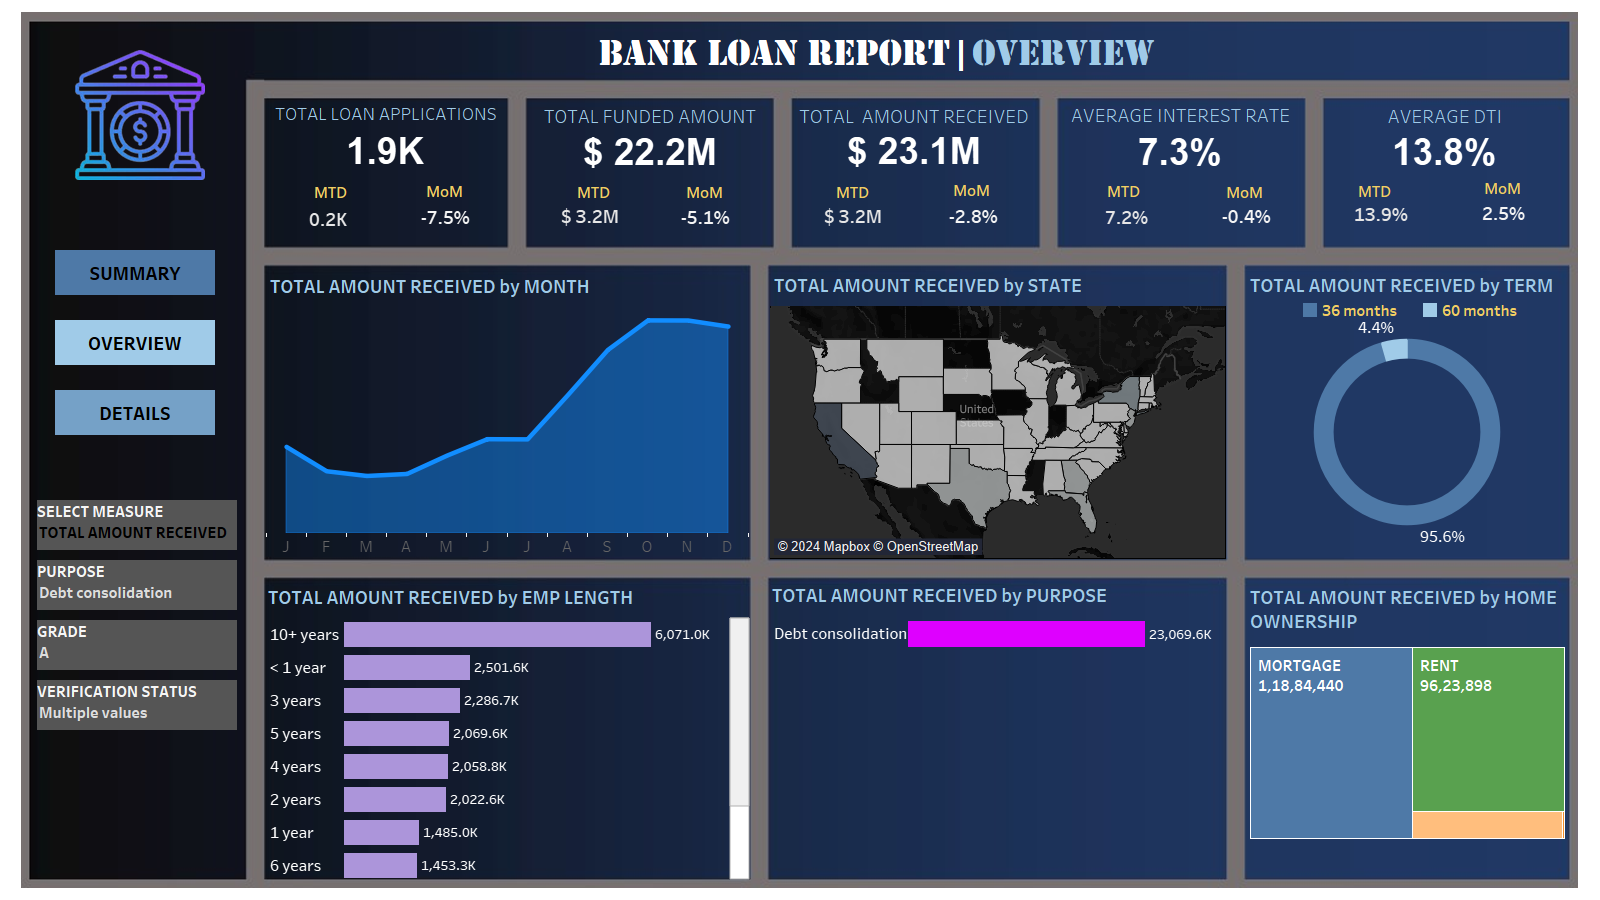

The page's visual inventory and layout, read from the dashboard file:
{"tool":"tableau","page":{"name":"OVERVIEW","canvas":[1600,900],"ordinal":1},"visuals":[{"type":"image","param":"C:/Users/Maanik/Downloads/Bank Loan Project-20240807T073315Z-001/Bank Loan Proje","box":[8,8,1584,884]},{"type":"text","box":[595,21,578,65]},{"type":"image","param":"C:/Users/Maanik/AppData/Local/Temp/TableauTemp/0zkw3at1ra2ahx14gca6o1qifzz1/Shee","box":[75,40,130,150]},{"type":"image","param":"C:/Users/Maanik/AppData/Local/Temp/TableauTemp/15ree561h9ufwv19vqi0z10ak1fa/Shee","box":[68,52,130,150]},{"type":"worksheet","title":"TOTAL LOAN APPLICATIONS","mark":"Automatic","box":[264,95,244,75]},{"type":"worksheet","title":"AVERAGE INTEREST RATE","mark":"Automatic","box":[1057,96,247,74]},{"type":"worksheet","title":"TOTAL FUNDED AMOUNT","mark":"Automatic","box":[528,97,244,72]},{"type":"worksheet","title":"TOTAL AMOUNT RECEIVED","mark":"Automatic","box":[792,97,244,71]},{"type":"worksheet","title":"AVERAGE DTI","mark":"Automatic","box":[1323,97,244,73]},{"type":"text","box":[1479,173,47,30]},{"type":"text","box":[948,175,47,30]},{"type":"text","box":[421,176,47,30]},{"type":"text","box":[1100,176,47,30]},{"type":"text","box":[1351,176,47,30]},{"type":"text","box":[307,177,47,30]},{"type":"text","box":[570,177,47,30]},{"type":"text","box":[681,177,47,30]},{"type":"text","box":[829,177,47,30]},{"type":"text","box":[1221,177,47,30]},{"type":"worksheet","title":"MTD AVERAGE INTEREST RATE","mark":"Automatic","box":[1079,180,97,74]},{"type":"worksheet","title":"MoM AVERAGE DTI","mark":"Automatic","box":[1458,181,93,64]},{"type":"worksheet","title":"MoM AVERAGE INTEREST RATE (2)","mark":"Automatic","box":[1188,182,118,68]},{"type":"worksheet","title":"MTD TOTAL AMOUNT RECEIVED","mark":"Automatic","box":[796,187,116,59]},{"type":"worksheet","title":"MoM TOTAL AMOUNT RECEIVED","mark":"Automatic","box":[933,187,82,59]},{"type":"worksheet","title":"MTD TOTAL FUNDED AMOUNT","mark":"Automatic","box":[550,190,81,52]},{"type":"worksheet","title":"MTD AVERAGE DTI","mark":"Automatic","box":[1331,193,100,43]},{"type":"worksheet","title":"MoM TOTAL FUNDED AMOUNT","mark":"Automatic","box":[656,195,100,44]},{"type":"worksheet","title":"MoM LOAN APPLICATIONS","mark":"Automatic","box":[400,200,91,35]},{"type":"worksheet","title":"MTD TOTAL LOAN APPLICATIONS","mark":"Automatic","box":[302,204,53,31]},{"type":"dashboard-object","box":[55,250,160,45]},{"type":"worksheet","title":"STATE","mark":"Multipolygon","box":[770,266,455,292]},{"type":"worksheet","title":"TERM","mark":"Pie","rows":["Calculation_1231734546634989574","Calculation_1231734546634989574"],"box":[1246,266,322,292]},{"type":"worksheet","title":"MONTH","mark":"Area","rows":["Calculation_1231734546594680832","Calculation_1231734546594680832"],"cols":["issue_date"],"box":[266,267,482,291]},{"type":"legend","title":"TERM","param":"[federated.1c1o7jy136sukd108z0h11665mzk].[none:term:nk]","box":[1300,300,251,28]},{"type":"dashboard-object","box":[55,320,160,45]},{"type":"dashboard-object","box":[55,390,160,45]},{"type":"parameter","param":"[Parameters].[Parameter 1]","box":[37,500,200,50]},{"type":"filter","title":"AVERAGE DTI","param":"[federated.1c1o7jy136sukd108z0h11665mzk].[none:purpose:nk]","box":[37,560,200,50]},{"type":"worksheet","title":"PURPOSE","mark":"Automatic","rows":["purpose"],"cols":["Calculation_1231734546594680832"],"box":[768,576,460,302]},{"type":"worksheet","title":"EMP LENGTH","mark":"Automatic","rows":["emp_length"],"cols":["Calculation_1231734546594680832"],"box":[264,578,486,301]},{"type":"worksheet","title":"HOME OWNERSHIP","mark":"Automatic","box":[1246,578,322,301]},{"type":"filter","title":"AVERAGE DTI","param":"[federated.1c1o7jy136sukd108z0h11665mzk].[none:grade:nk]","box":[37,620,200,50]},{"type":"filter","title":"AVERAGE DTI","param":"[federated.1c1o7jy136sukd108z0h11665mzk].[none:verification_status:nk]","box":[37,680,200,50]}]}

Visuals, with their boxes in screenshot pixels (x1, y1, x2, y2), scaled from the page's 1600x900 canvas onto the 1600x900 screenshot:
image: bbox(8, 8, 1592, 892)
text: bbox(595, 21, 1173, 86)
image: bbox(75, 40, 205, 190)
image: bbox(68, 52, 198, 202)
"TOTAL LOAN APPLICATIONS" worksheet: bbox(264, 95, 508, 170)
"AVERAGE INTEREST RATE" worksheet: bbox(1057, 96, 1304, 170)
"TOTAL FUNDED AMOUNT" worksheet: bbox(528, 97, 772, 169)
"TOTAL AMOUNT RECEIVED" worksheet: bbox(792, 97, 1036, 168)
"AVERAGE DTI" worksheet: bbox(1323, 97, 1567, 170)
text: bbox(1479, 173, 1526, 203)
text: bbox(948, 175, 995, 205)
text: bbox(421, 176, 468, 206)
text: bbox(1100, 176, 1147, 206)
text: bbox(1351, 176, 1398, 206)
text: bbox(307, 177, 354, 207)
text: bbox(570, 177, 617, 207)
text: bbox(681, 177, 728, 207)
text: bbox(829, 177, 876, 207)
text: bbox(1221, 177, 1268, 207)
"MTD AVERAGE INTEREST RATE" worksheet: bbox(1079, 180, 1176, 254)
"MoM AVERAGE DTI" worksheet: bbox(1458, 181, 1551, 245)
"MoM AVERAGE INTEREST RATE (2)" worksheet: bbox(1188, 182, 1306, 250)
"MTD TOTAL AMOUNT RECEIVED" worksheet: bbox(796, 187, 912, 246)
"MoM TOTAL AMOUNT RECEIVED" worksheet: bbox(933, 187, 1015, 246)
"MTD TOTAL FUNDED AMOUNT" worksheet: bbox(550, 190, 631, 242)
"MTD AVERAGE DTI" worksheet: bbox(1331, 193, 1431, 236)
"MoM TOTAL FUNDED AMOUNT" worksheet: bbox(656, 195, 756, 239)
"MoM LOAN APPLICATIONS" worksheet: bbox(400, 200, 491, 235)
"MTD TOTAL LOAN APPLICATIONS" worksheet: bbox(302, 204, 355, 235)
dashboard-object: bbox(55, 250, 215, 295)
"STATE" worksheet (Multipolygon marks): bbox(770, 266, 1225, 558)
"TERM" worksheet (Pie marks): bbox(1246, 266, 1568, 558)
"MONTH" worksheet (Area marks): bbox(266, 267, 748, 558)
"TERM" legend: bbox(1300, 300, 1551, 328)
dashboard-object: bbox(55, 320, 215, 365)
dashboard-object: bbox(55, 390, 215, 435)
parameter: bbox(37, 500, 237, 550)
"AVERAGE DTI" filter: bbox(37, 560, 237, 610)
"PURPOSE" worksheet: bbox(768, 576, 1228, 878)
"EMP LENGTH" worksheet: bbox(264, 578, 750, 879)
"HOME OWNERSHIP" worksheet: bbox(1246, 578, 1568, 879)
"AVERAGE DTI" filter: bbox(37, 620, 237, 670)
"AVERAGE DTI" filter: bbox(37, 680, 237, 730)
